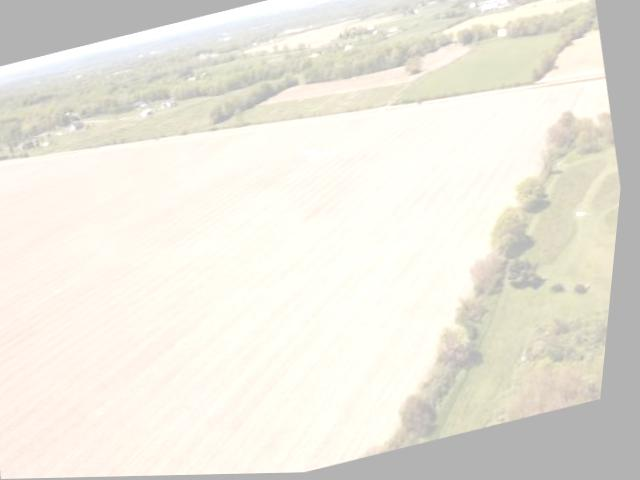uav: (294, 131, 350, 178)
